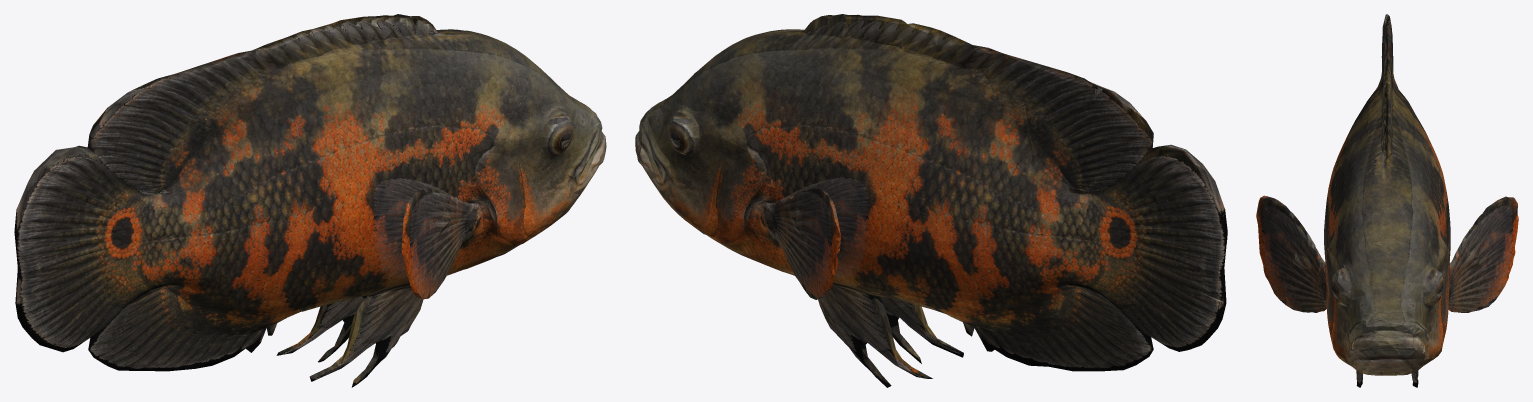
The model's file is oscar-hy2mv-8000.glb.
3 renders of one model, left to right at view 1: azimuth 30°, elevation 25°; view 2: azimuth 150°, elevation 25°; view 3: azimuth 270°, elevation 25°, orthographic. The views are drawn at different scales.
Parts seen in each view (by area): view 1: geometry_0; view 2: geometry_0; view 3: geometry_0.
Part boxes in pixels (x1,y1,x2,y2): geometry_0: [14, 14, 606, 387]; geometry_0: [635, 14, 1227, 387]; geometry_0: [1256, 14, 1518, 387].
Bounding box in the file's own units: 1 × 0.5806 × 0.4544.
Materials: 1 (1 with a texture image).
